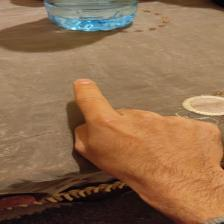one: (66, 74, 219, 201)
